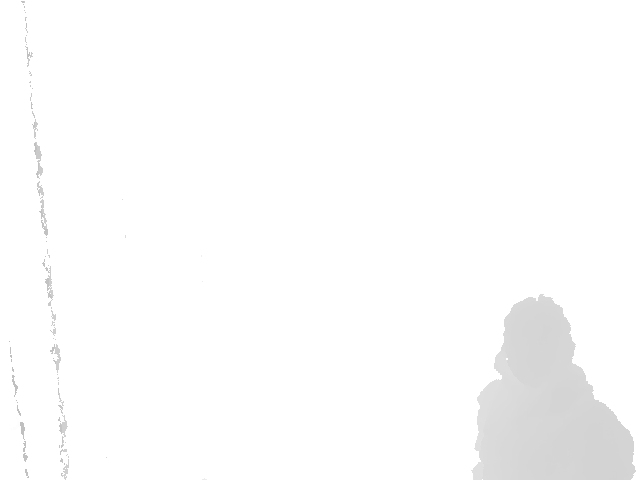head: (495, 295, 577, 385)
person: (472, 295, 635, 480)
